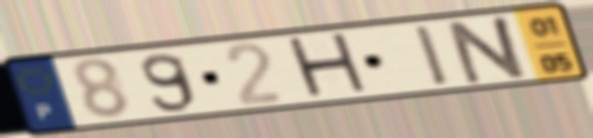2: (223, 40, 289, 110)
8: (69, 56, 133, 123)
9: (138, 51, 198, 113)
H: (282, 30, 375, 103)
I: (410, 22, 455, 89)
N: (444, 12, 534, 87)
